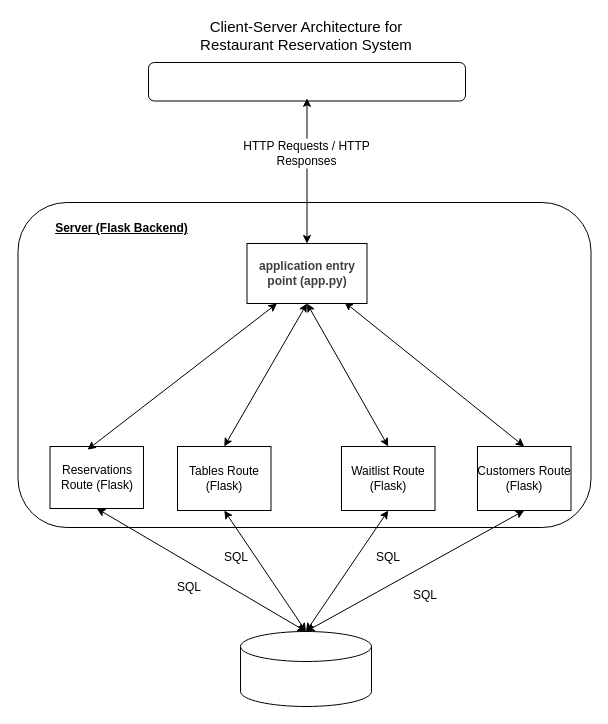
Image size: 608x724. Some labels were removed from this diagram. The centre of each missing label's shape, as x and y in pixels:
"Client (React Frontend)" belongs at point 307,81.
"MySQL Database" belongs at point 306,668.
